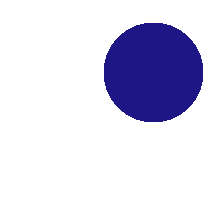circle: (104, 23, 202, 121)
